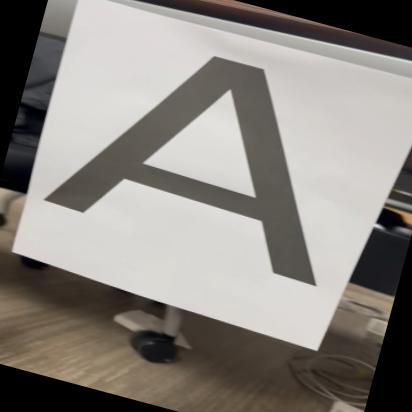seat: (42, 15, 375, 291)
